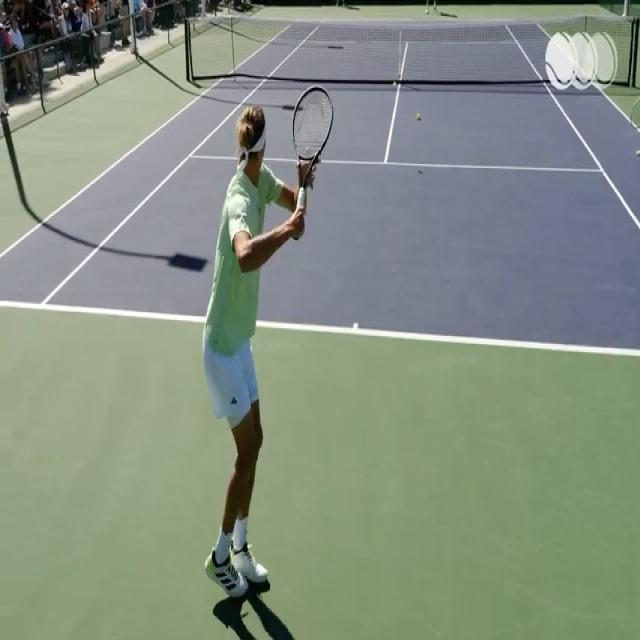forehand-ready: (206, 87, 333, 617)
